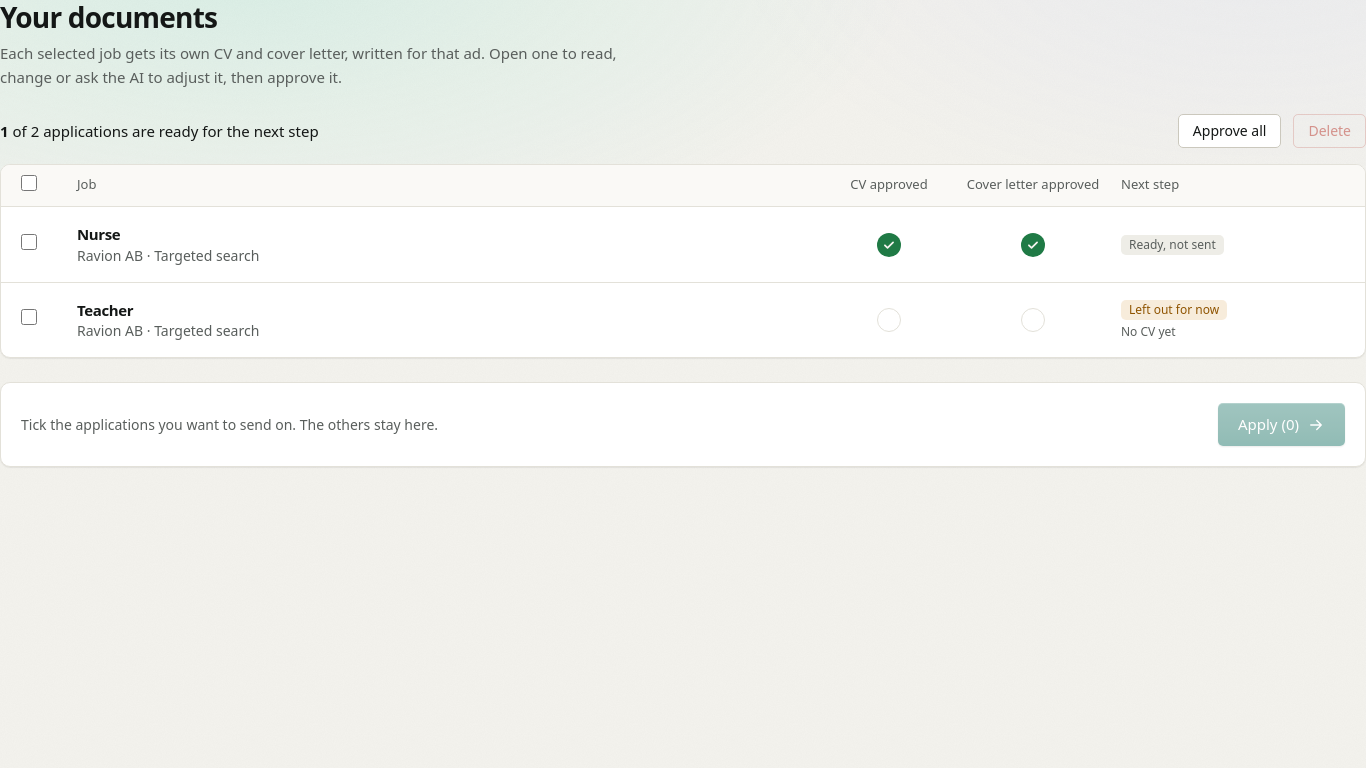
it: deleting applications › deletes the ticked applications, including ones that are not ready, only after a confirmation
expect the button "Delete" is disabled: met, box [1293,114,1365,148]
Click the checkbox named "Select Teacher".
click(29, 317)  # box [21,309,37,325]
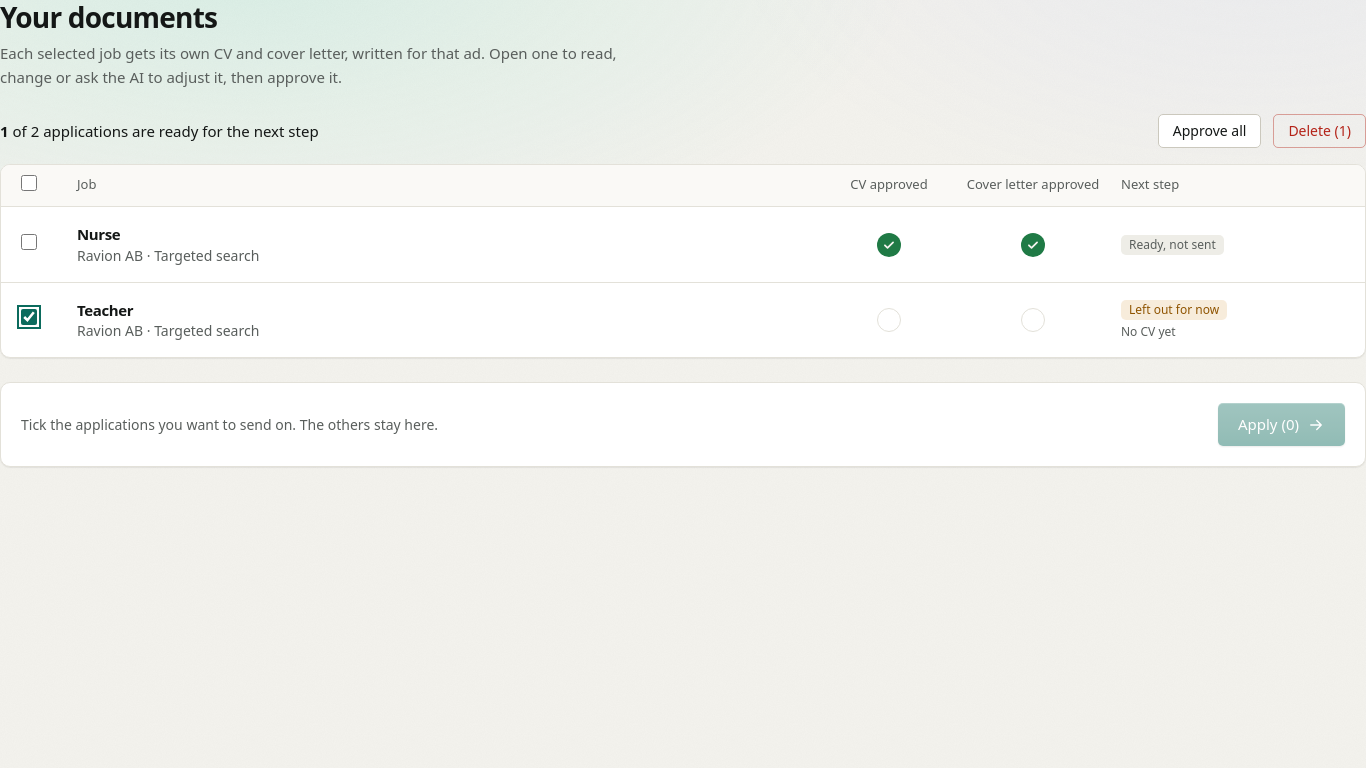
Click the button "Delete (1)".
click(1320, 131)  # box [1273,114,1365,148]
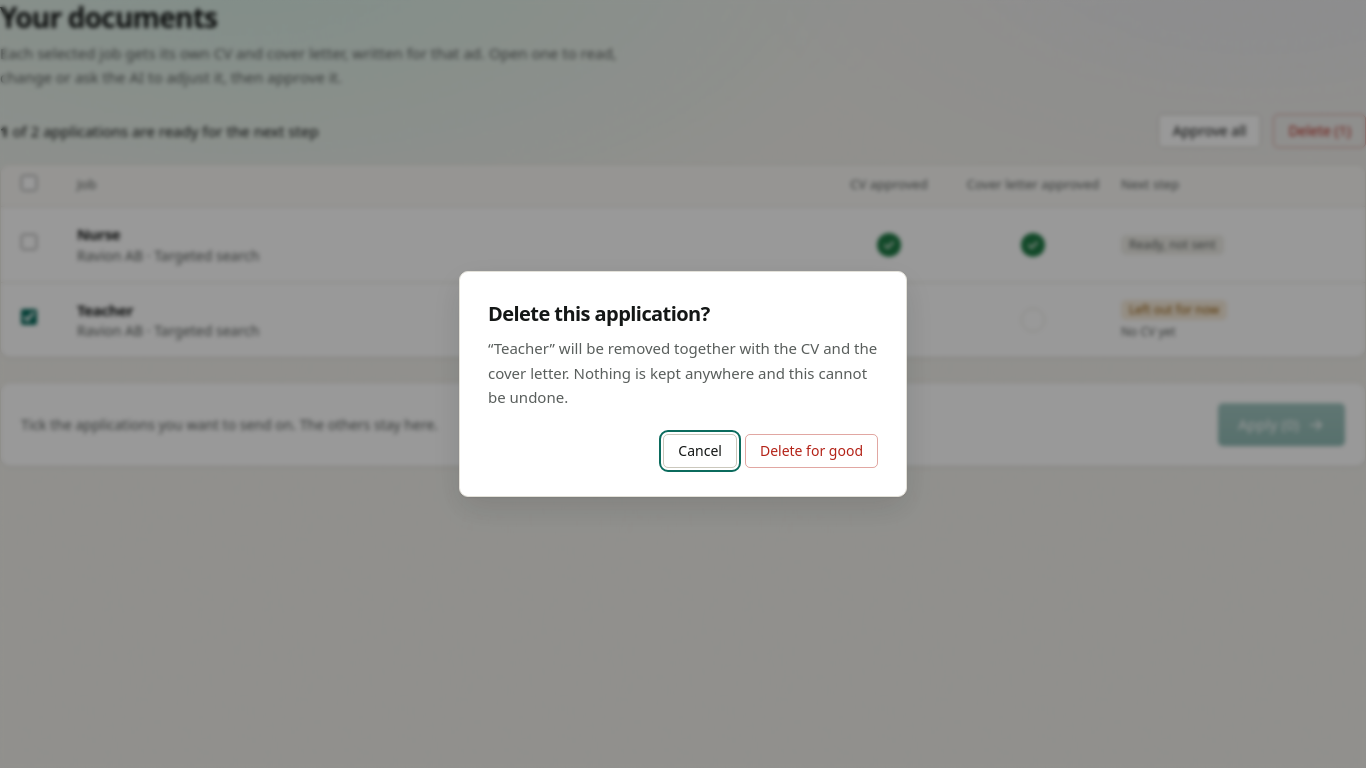
expect the dialog shows "“Teacher” will be removed": met, box [459,271,907,496]
Click the button "Cancel".
click(700, 451)  # box [663,434,737,468]
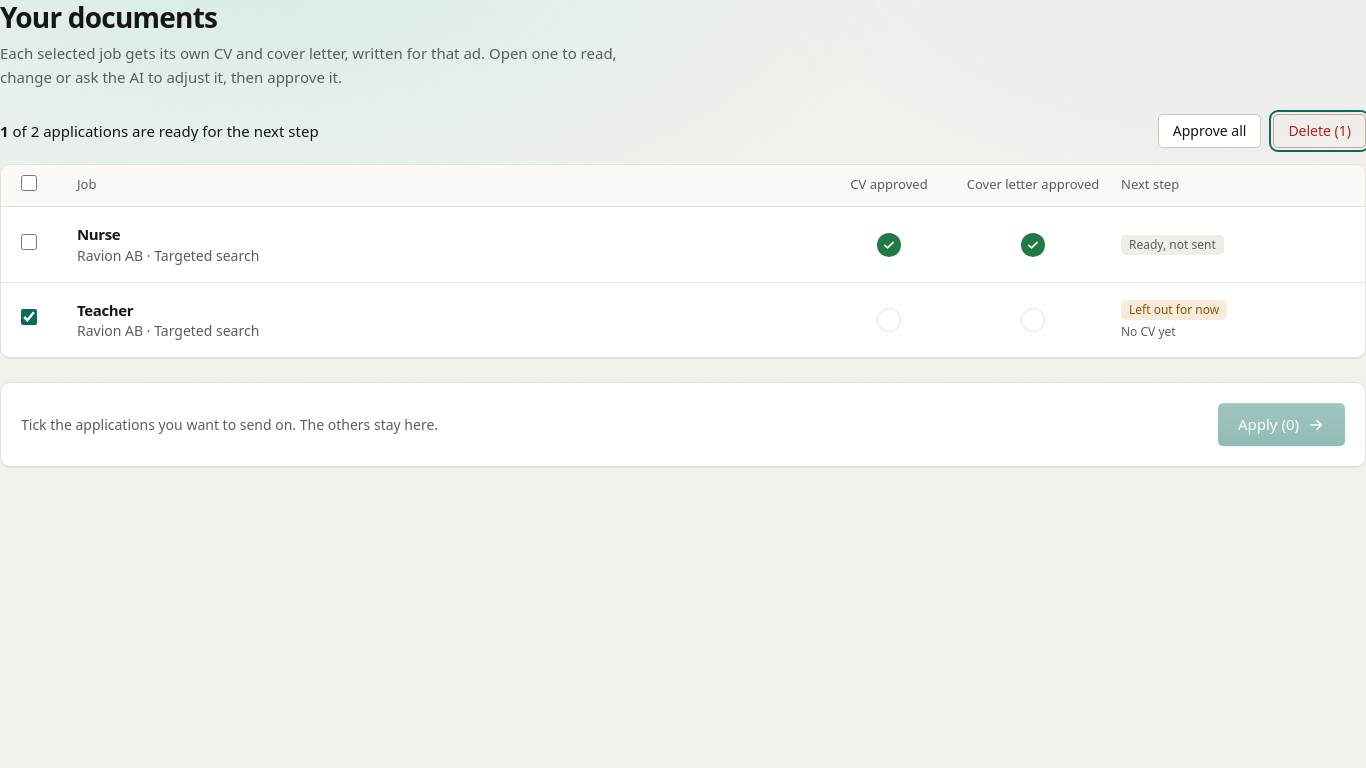
expect the dialog is gone: met
Click the button "Delete (1)".
click(1320, 131)  # box [1273,114,1365,148]
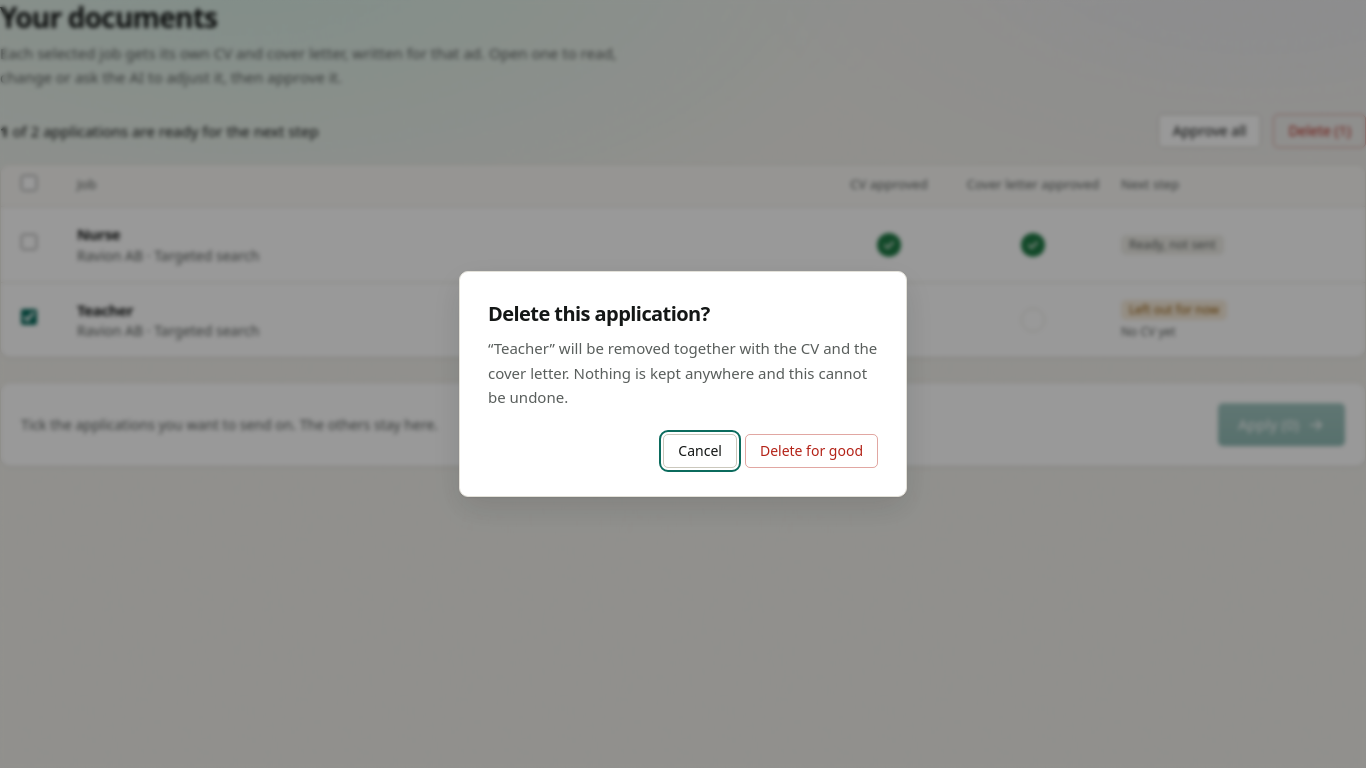
Click the button "Delete for good".
click(811, 451)  # box [745,434,878,468]
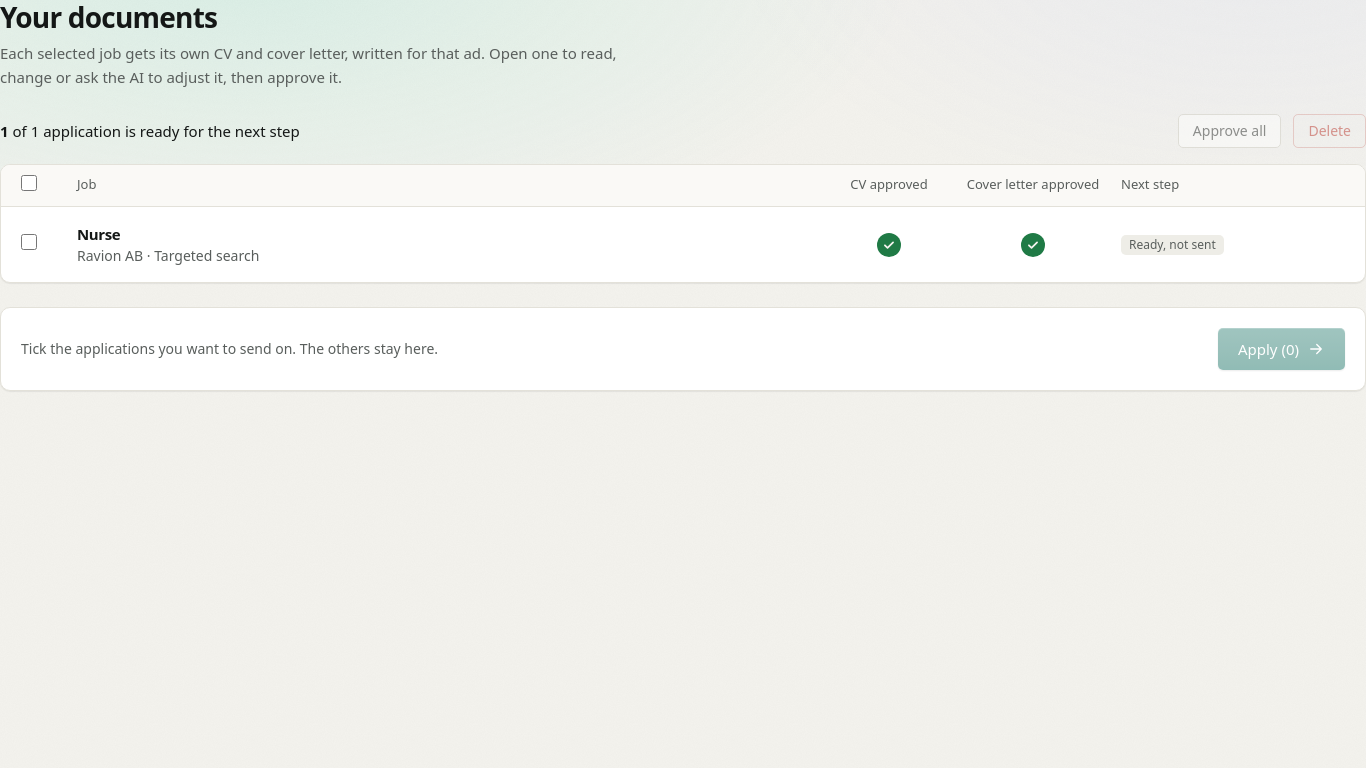
expect the link "Teacher" is gone: met
expect the dialog is gone: met
